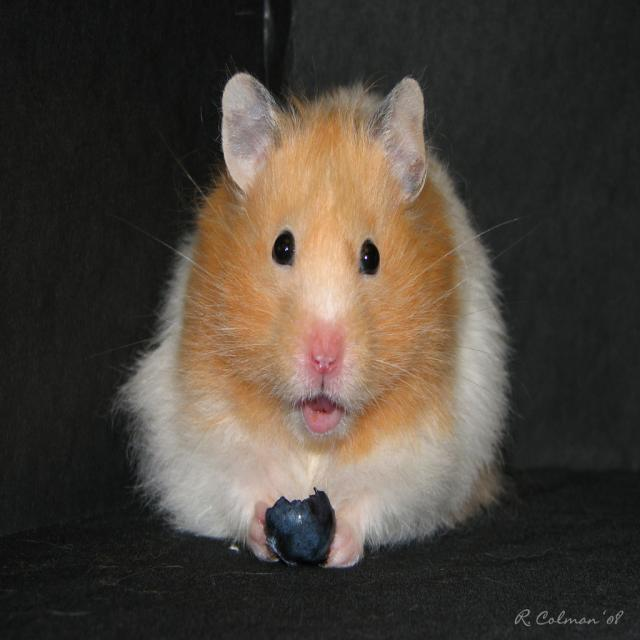rat: (124, 75, 502, 569)
